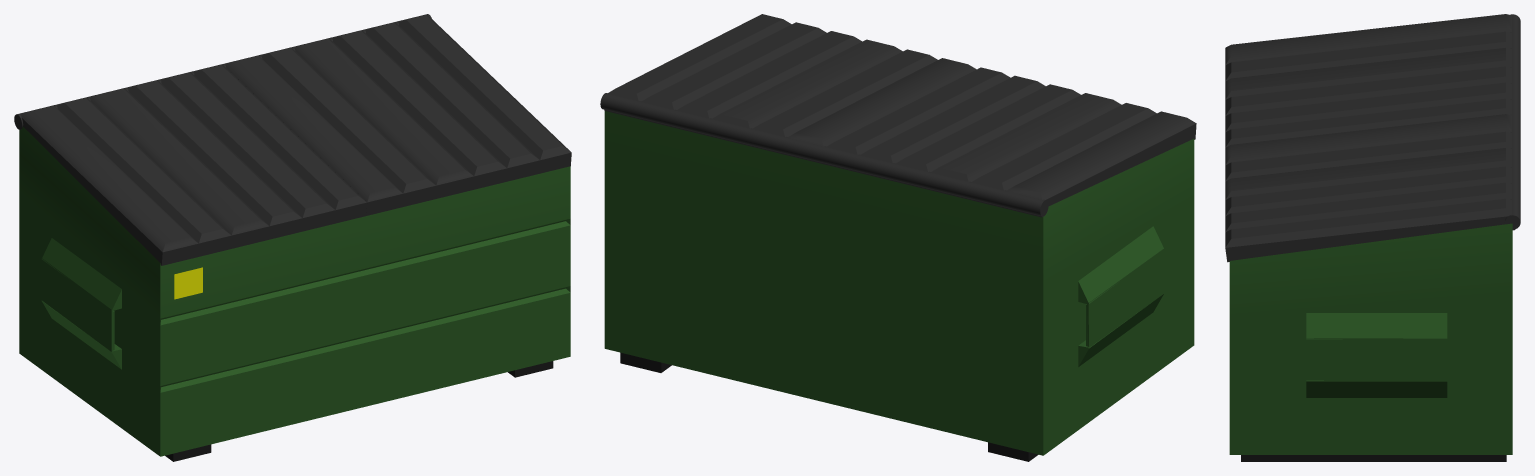
Rendered from Dumpster.fbx.
The picture shows the model from 3 angles, left to right: view 1: azimuth 30°, elevation 25°; view 2: azimuth 150°, elevation 25°; view 3: azimuth 270°, elevation 25°; orthographic projection. The views are drawn at different scales.
Parts seen in each view (by area): view 1: Dumbster, Lid1, Lid, Handle, Label, pCylinder1; view 2: Dumbster, Lid1, Lid, pCylinder1, Handle; view 3: Dumbster, Lid, Lid1, Handle1, pCylinder1, Leg_2.
Part boxes in pixels (x1=…): Dumbster: x1=19, y1=127, x2=570, y2=456; Lid1: x1=21, y1=65, x2=367, y2=265; Lid: x1=225, y1=15, x2=571, y2=215; Handle: x1=41, y1=238, x2=121, y2=369; Label: x1=174, y1=267, x2=202, y2=299; pCylinder1: x1=14, y1=14, x2=431, y2=129; Dumbster: x1=604, y1=111, x2=1194, y2=455; Lid1: x1=823, y1=67, x2=1196, y2=217; Lid: x1=604, y1=14, x2=976, y2=163; pCylinder1: x1=600, y1=93, x2=1048, y2=216; Handle: x1=1078, y1=226, x2=1164, y2=366; Dumbster: x1=1229, y1=223, x2=1512, y2=454; Lid: x1=1225, y1=114, x2=1515, y2=262; Lid1: x1=1225, y1=14, x2=1511, y2=147; Handle1: x1=1306, y1=313, x2=1447, y2=397; pCylinder1: x1=1504, y1=14, x2=1520, y2=229; Leg_2: x1=1241, y1=455, x2=1506, y2=461.
Size of the model in its own units: 18.72 by 10.56 by 11.04.
